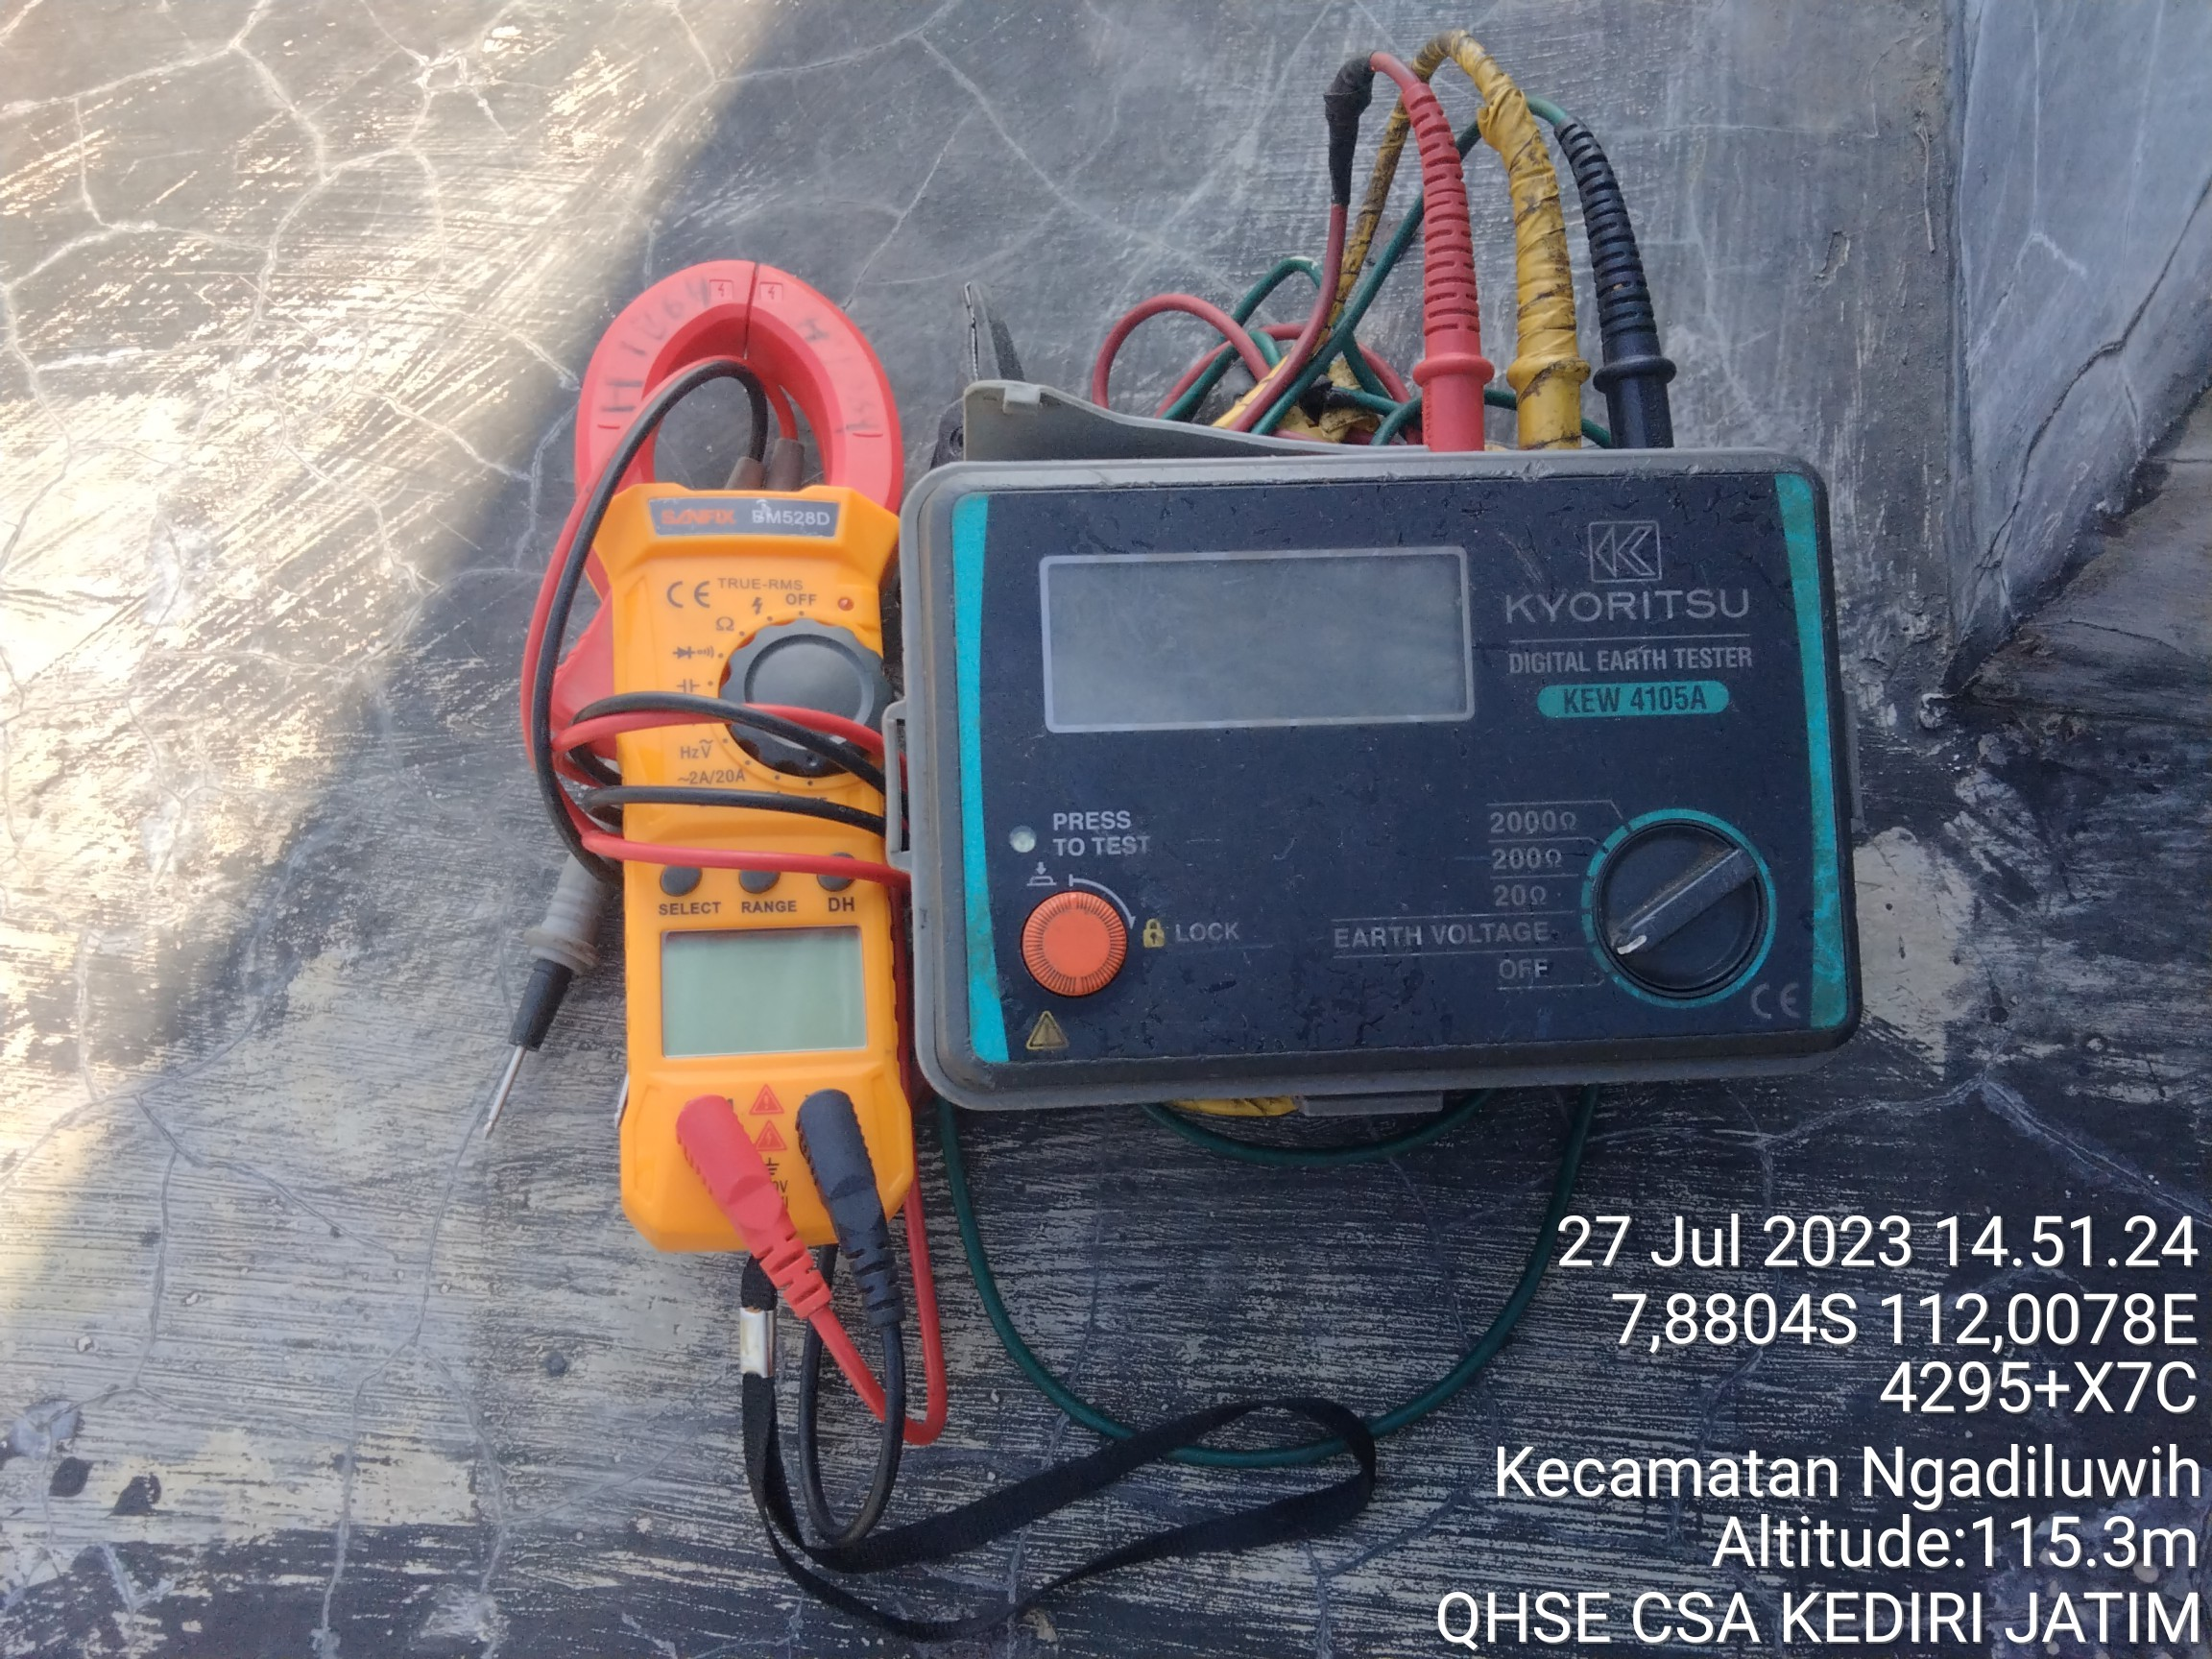EARTH_GROUNDING_TESTER: (895, 373, 1878, 1114)
TANG_AMPERE: (536, 258, 899, 1241)
